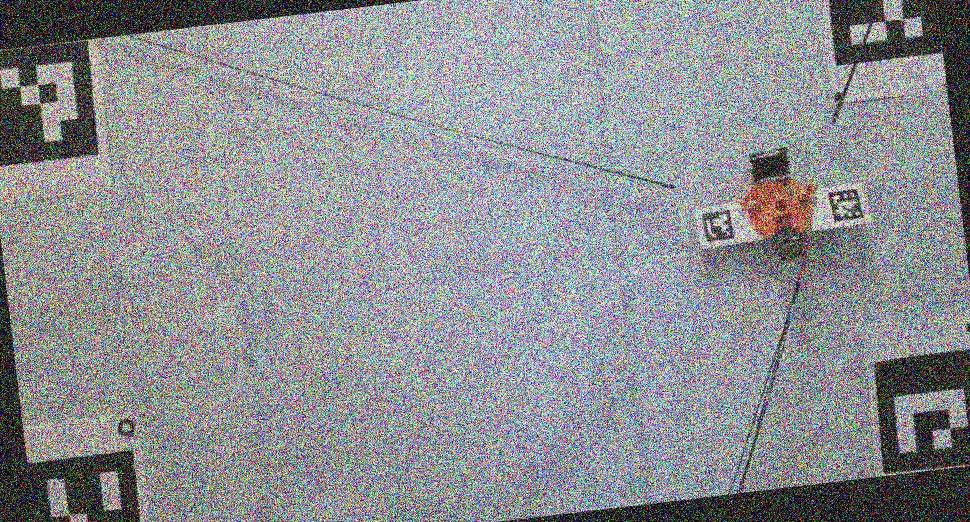robot: (741, 147, 818, 263)
